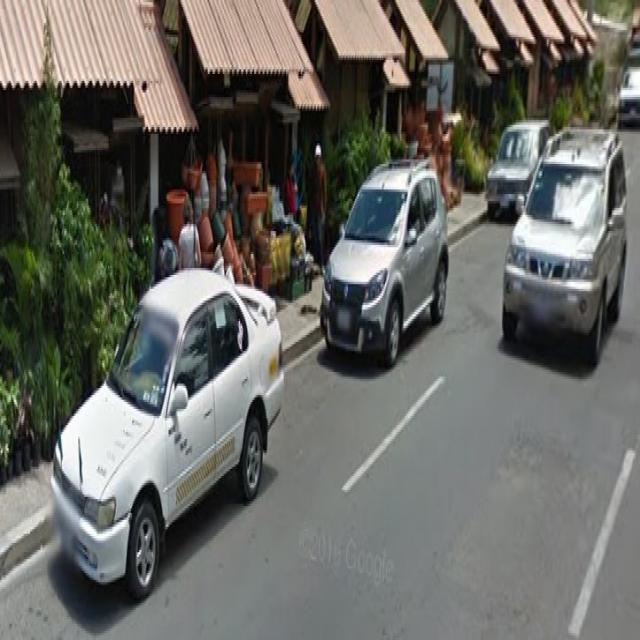cars: (49, 271, 286, 596), (507, 149, 627, 361), (323, 164, 448, 351), (495, 111, 533, 223)
